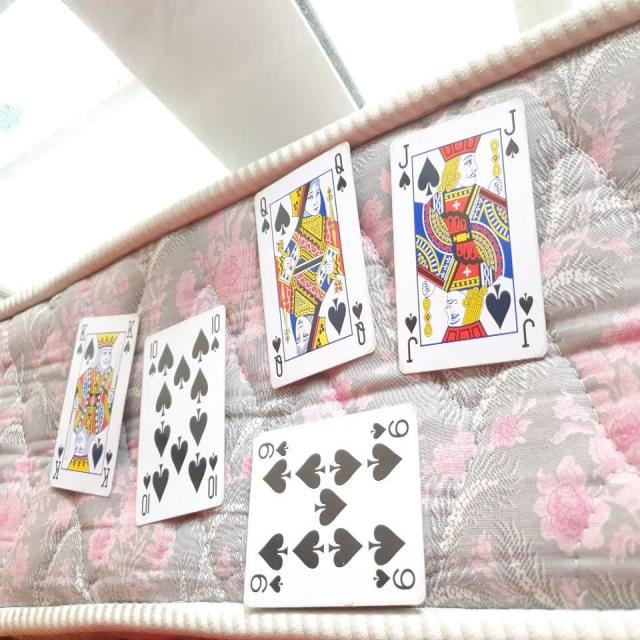10 Spades: (139, 300, 230, 530)
9 Spades: (241, 413, 452, 610)
J Spades: (390, 93, 550, 386)
K Spades: (49, 312, 140, 500)
Q Spades: (250, 137, 376, 385)
